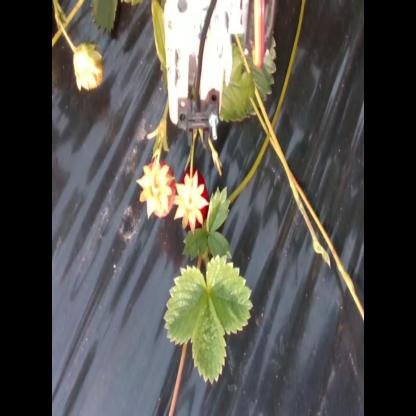ripe: (142, 154, 175, 223), (174, 167, 208, 229)
unripe: (71, 42, 103, 90)
